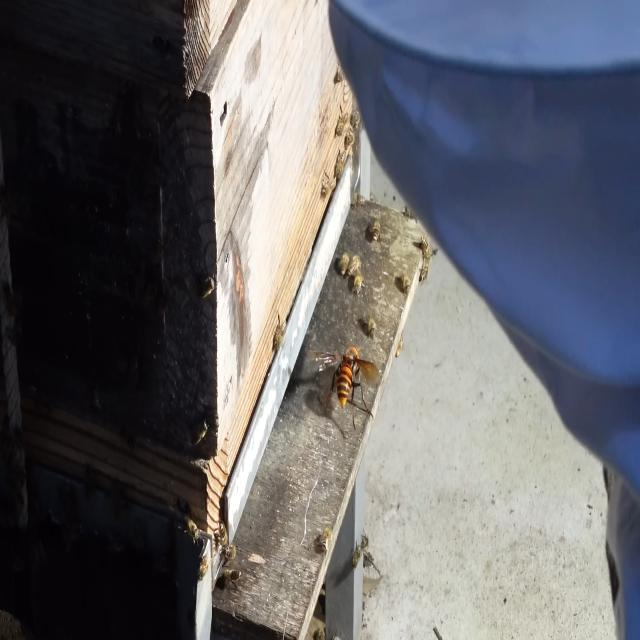Bees: (273, 312, 287, 352), (219, 566, 242, 590), (334, 101, 349, 137), (319, 170, 336, 201), (346, 253, 362, 280), (335, 148, 347, 184), (349, 187, 365, 213), (351, 538, 362, 569), (352, 271, 364, 297), (372, 216, 382, 244), (418, 259, 428, 286), (420, 232, 430, 259)
Hornets: (302, 345, 379, 431)
